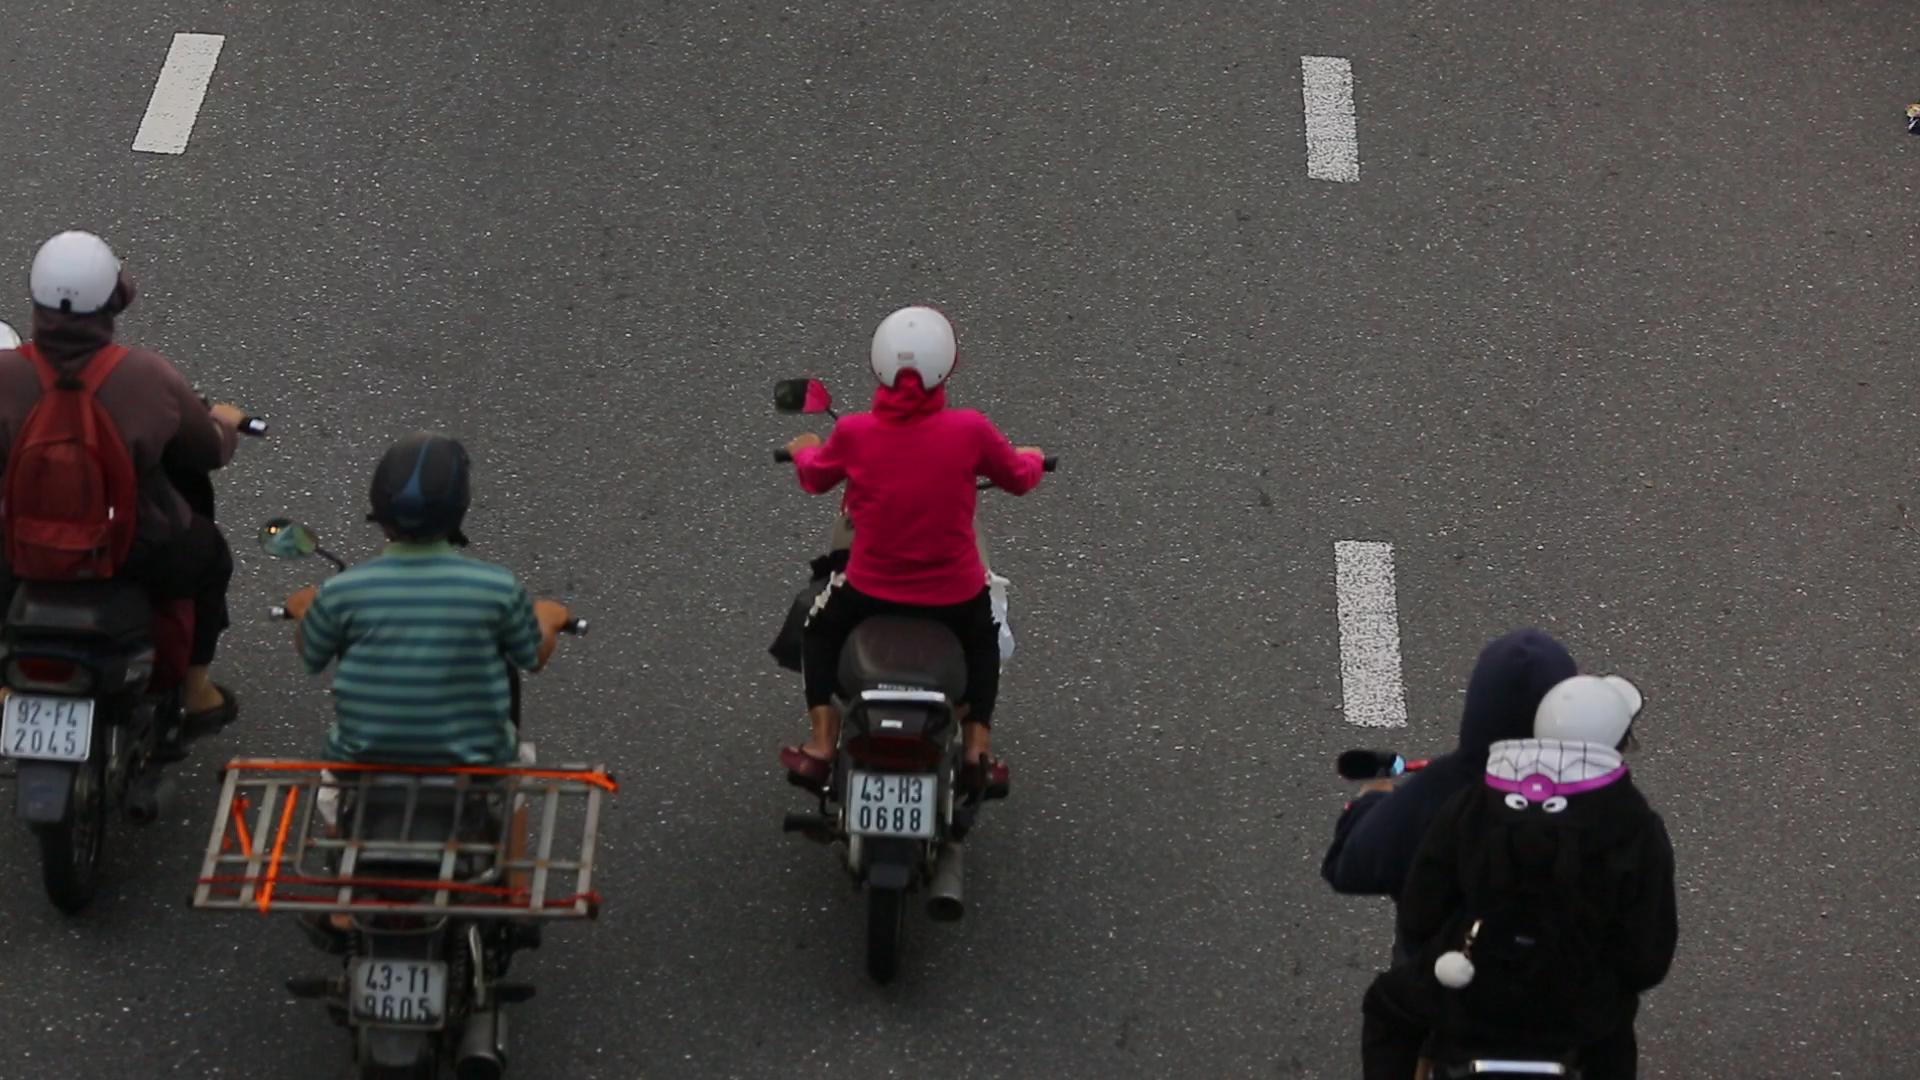motobike: (260, 429, 585, 1080), (775, 298, 1048, 961), (0, 215, 224, 932)
